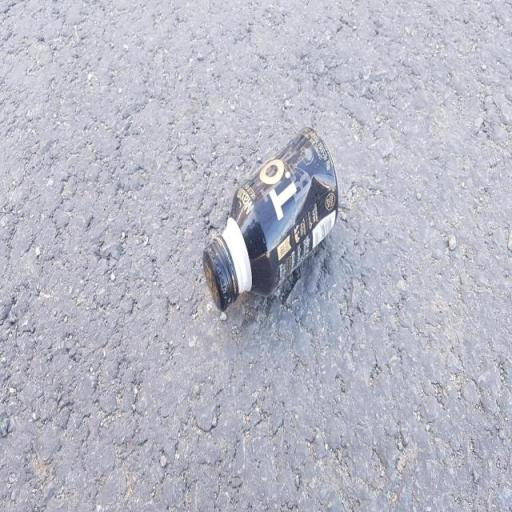metal: (169, 68, 365, 358)
